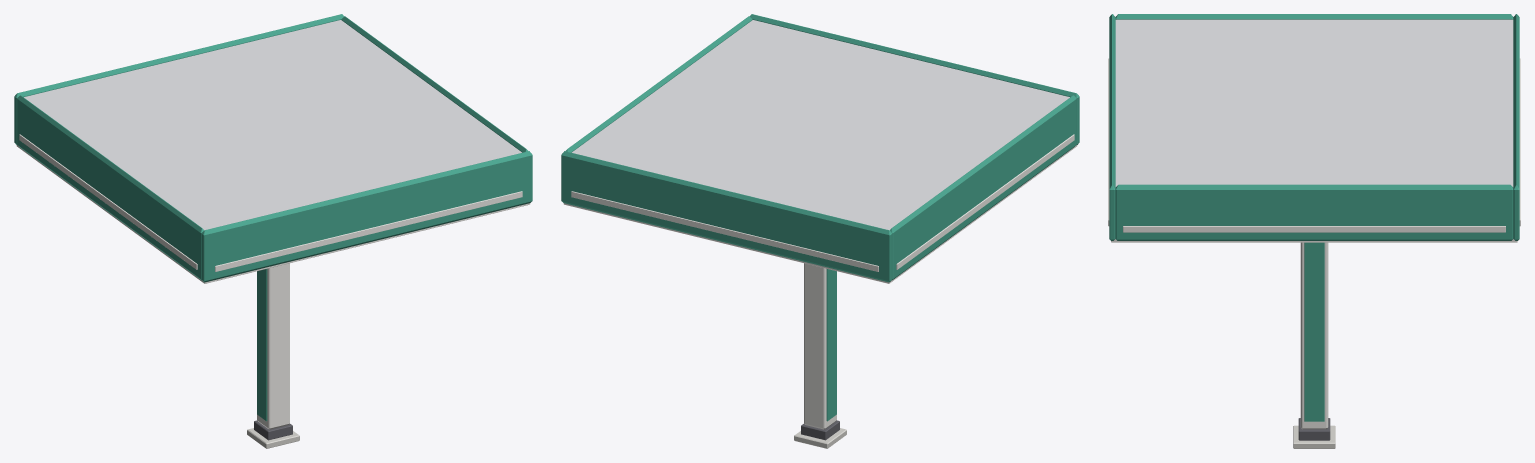
The model's file is CanopySection.glb.
3 views of the same model, side by side, from view 1: azimuth 30°, elevation 25°; view 2: azimuth 150°, elevation 25°; view 3: azimuth 270°, elevation 25° (orthographic). The views are drawn at different scales.
Parts seen in each view (by area): view 1: forecourt-canopy-section; view 2: forecourt-canopy-section; view 3: forecourt-canopy-section.
Boxes of the visible parts, x1,y1,x2,y2 form: forecourt-canopy-section: [14, 14, 532, 448]; forecourt-canopy-section: [561, 14, 1079, 448]; forecourt-canopy-section: [1108, 14, 1520, 448].
Bounding box in the file's own units: 6.04 × 5.5 × 6.04.
